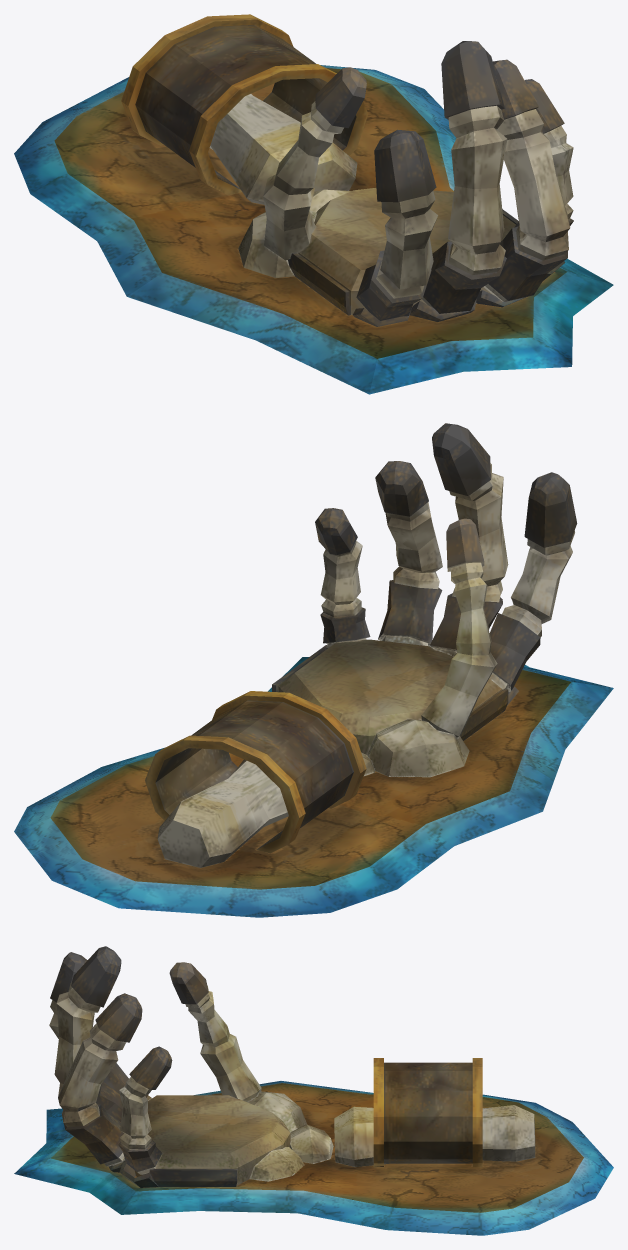
The model's file is SM_hand.fbx.
3 views of the same model, one above another, from view 1: azimuth 30°, elevation 25°; view 2: azimuth 150°, elevation 25°; view 3: azimuth 270°, elevation 25° (orthographic). The views are drawn at different scales.
Parts seen in each view (by area): view 1: SM_hand_material; view 2: SM_hand_material; view 3: SM_hand_material.
Boxes of the visible parts, <box> form: SM_hand_material: <box>14,14,613,394</box>; SM_hand_material: <box>14,423,613,917</box>; SM_hand_material: <box>14,946,613,1235</box>.
Size of the model in its own units: 356 by 237 by 582.
Materials: 1 (1 with a texture image).
